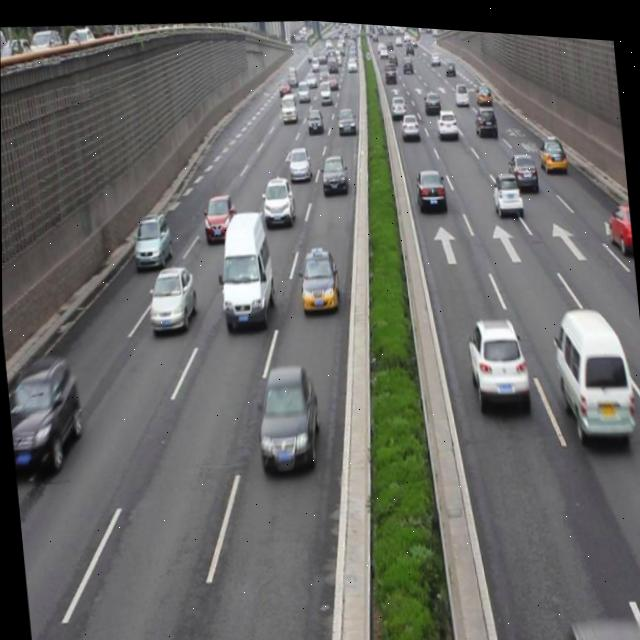car: (4, 347, 84, 475), (251, 354, 322, 465), (464, 305, 529, 403), (145, 259, 197, 333), (295, 241, 339, 307), (131, 206, 174, 267), (201, 187, 239, 239), (260, 170, 295, 223), (411, 157, 447, 207), (603, 190, 633, 244), (488, 162, 522, 209), (504, 144, 539, 189), (318, 147, 349, 191), (536, 125, 565, 167), (286, 138, 312, 179), (471, 96, 497, 135), (433, 99, 458, 133), (399, 104, 420, 134)
truck: (548, 294, 634, 433), (214, 204, 275, 327), (548, 598, 640, 640)
